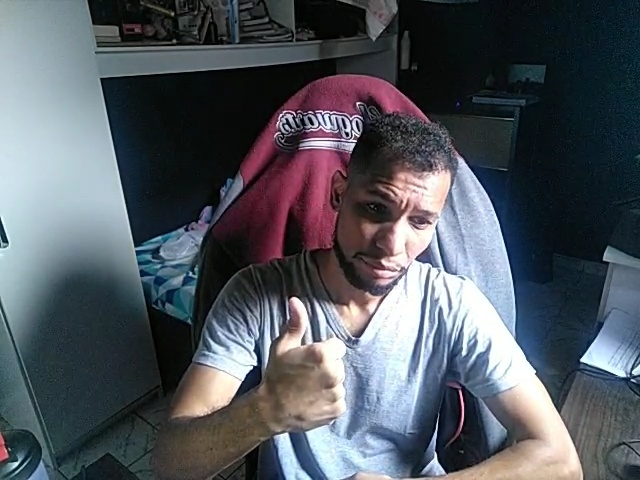sim: (251, 294, 349, 434)
